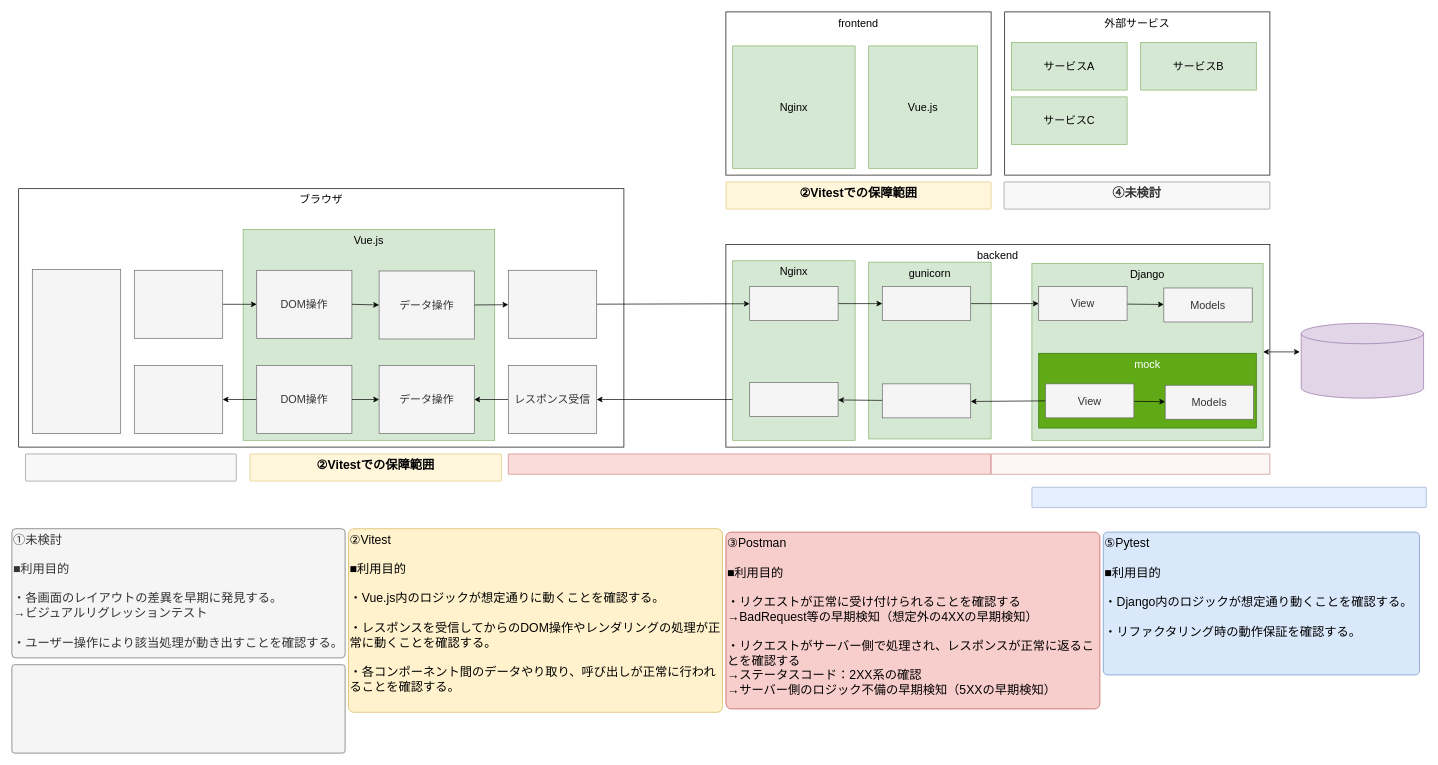
Some shapes in this 1438 by 765 pixel diagram are drawn without their labels. The shapes that lost their labels are listed below. From the top down, each one's centre as x and y in pixels, then its label:
At (178,304): "ユーザー操作".
At (552,304): "リクエスト送信".
At (793,303): "リクエスト受付".
At (926,303): "アプリケーション へリクエスト".
At (76,351): "レイアウト 画面表示".
At (1362,360): "DB".
At (178,399): "レンダリング".
At (793,399): "レスポンス送信".
At (926,400): "Webサーバーへ 返却".
At (130,467): "①未検討".
At (749,463): "③Postmanでの保障範囲".
At (1228,497): "⑤Pytestでの保障範囲".
At (178,708): "④未検討 ■期待すること ・外部APIとの連携が正常に行えることを確認する。".
